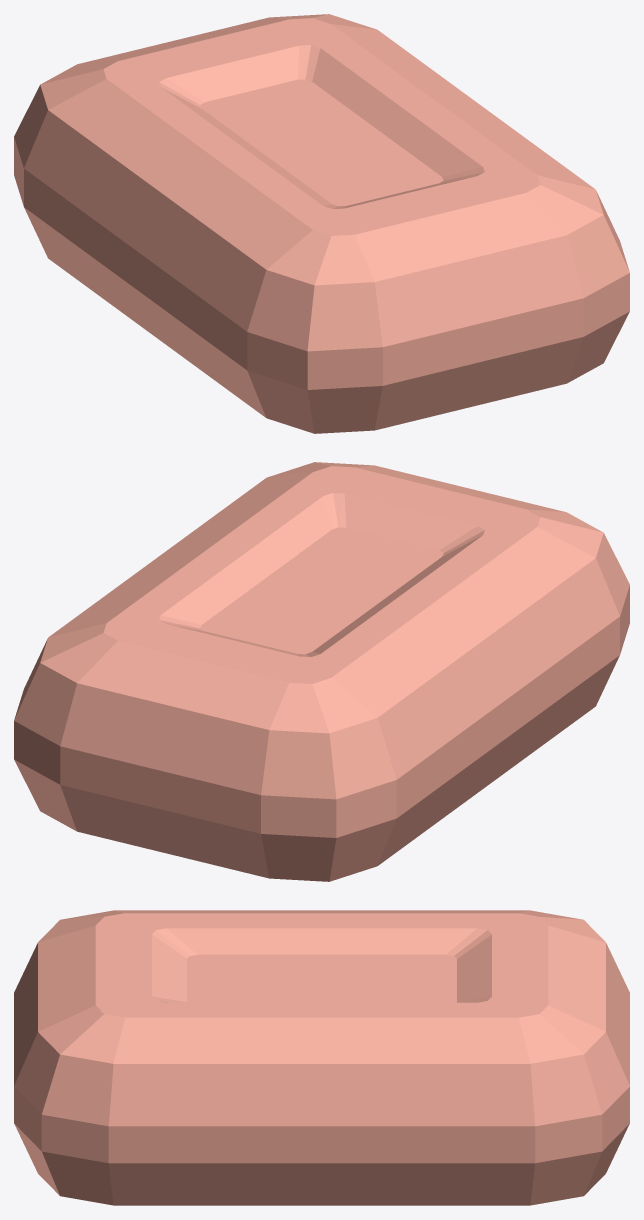
The model's file is soap.glb.
3 renders of one model, top to bottom at view 1: azimuth 30°, elevation 25°; view 2: azimuth 150°, elevation 25°; view 3: azimuth 270°, elevation 25°, orthographic. The views are drawn at different scales.
Parts seen in each view (by area): view 1: Soap; view 2: Soap; view 3: Soap.
Part boxes in pixels (x1,y1,x2,y2): Soap: (14,14,629,433); Soap: (14,462,629,881); Soap: (14,910,629,1205).
Bounding box in the file's own units: 0.0667 × 0.0332 × 0.1.
